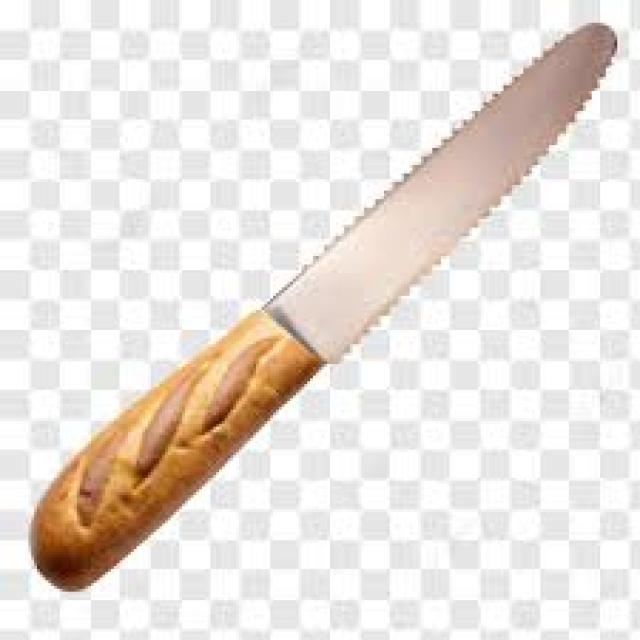Knife: (28, 23, 614, 589)
